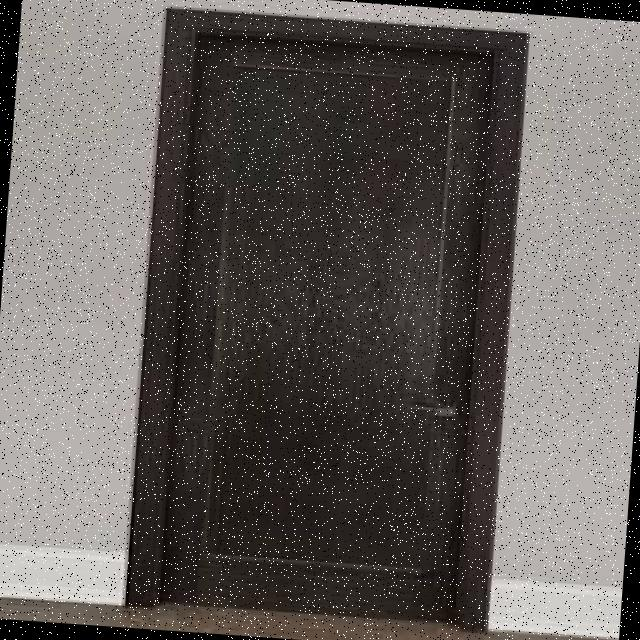Door: (146, 25, 506, 630)
